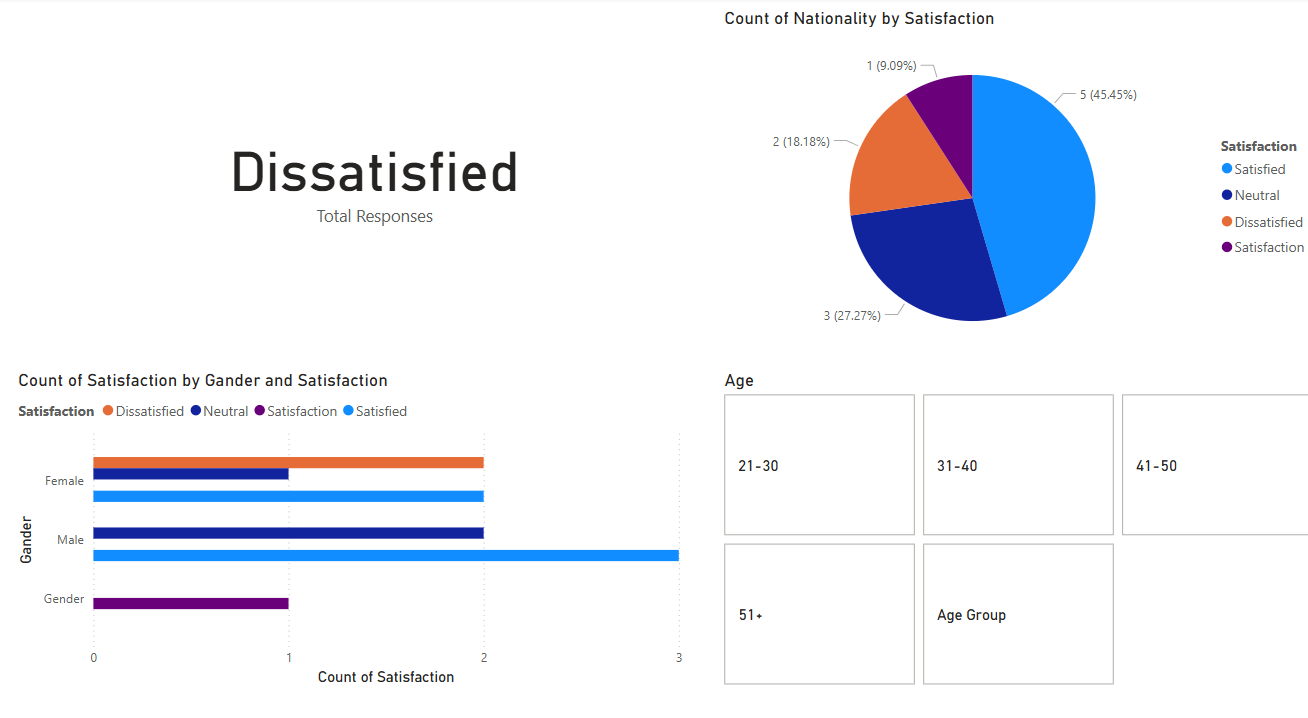

The dashboard page shown, as its layout file describes it:
{"tool":"powerbi","page":{"name":"Page 1","canvas":[1280,720],"ordinal":0},"visuals":[{"type":"card","fields":{"Values":["Min(Sheet1.Satisfaction)"]},"box":[19.2,9.6,698.5,325.2],"z":0},{"type":"pieChart","fields":{"Category":["Sheet1.Satisfaction"],"Y":["CountNonNull(Sheet1.Nationality)"]},"box":[701.2,9.6,579.1,349.9],"z":1},{"type":"clusteredBarChart","fields":{"Category":["Sheet1.Gander"],"Series":["Sheet1.Satisfaction"],"Y":["CountNonNull(Sheet1.Satisfaction)"]},"box":[19.2,359.5,651.8,310.1],"z":2},{"type":"advancedSlicerVisual","fields":{"Values":["Sheet1.Age"]},"box":[701,360,579,310],"z":3}]}

Visuals, with their boxes in screenshot pixels (x1, y1, x2, y2), scaled from the page's 1280x720 canvas onto the 1308x718 screenshot:
card - Min(Sheet1.Satisfaction): (20,10,733,334)
pieChart - Sheet1.Satisfaction x CountNonNull(Sheet1.Nationality): (717,10,1307,359)
clusteredBarChart - Sheet1.Gander x Sheet1.Satisfaction: (20,359,686,668)
advancedSlicerVisual - Sheet1.Age: (716,359,1307,668)
